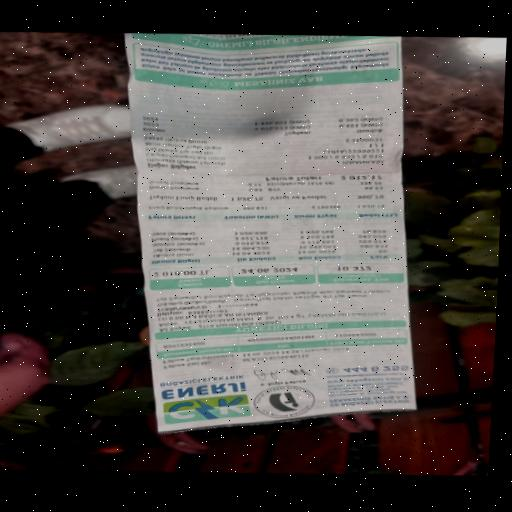electricity-bill: (124, 29, 415, 432)
